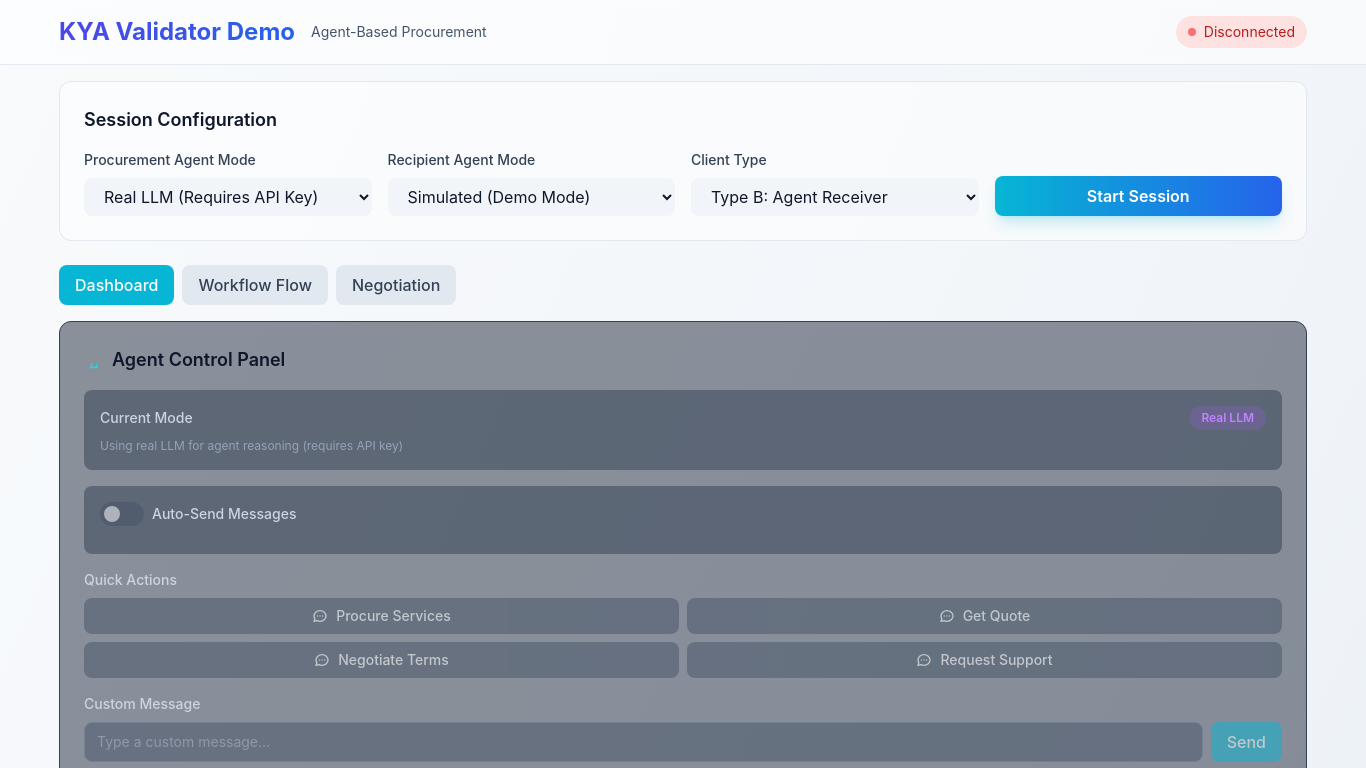
it: DemoDashboard › Tab Navigation › should switch to negotiation tab when clicked
This screenshot has width=1366, height=768.
Step 1. Click the button "Negotiation" → (396, 285), box [336,265,456,305]
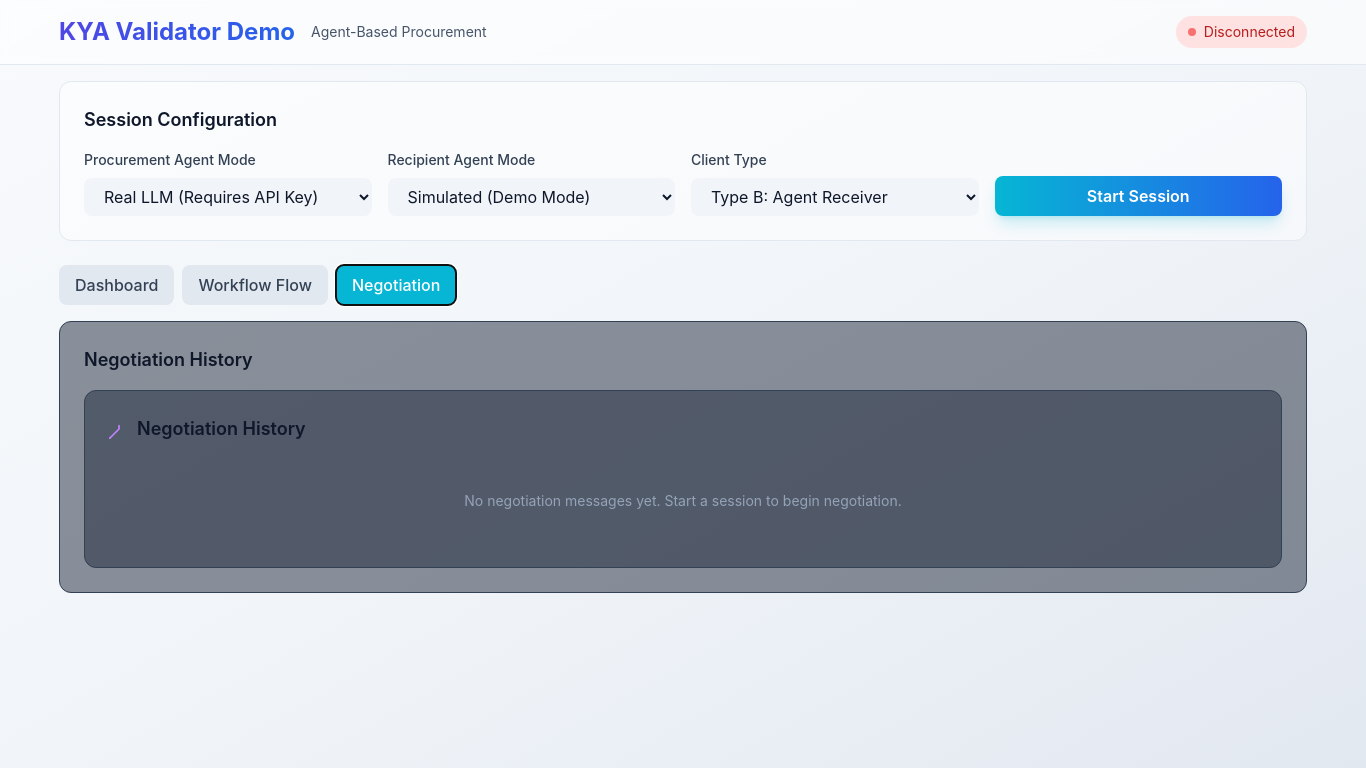
Check: the 1st heading "Negotiation History" is shown, box [84,349,253,370]
